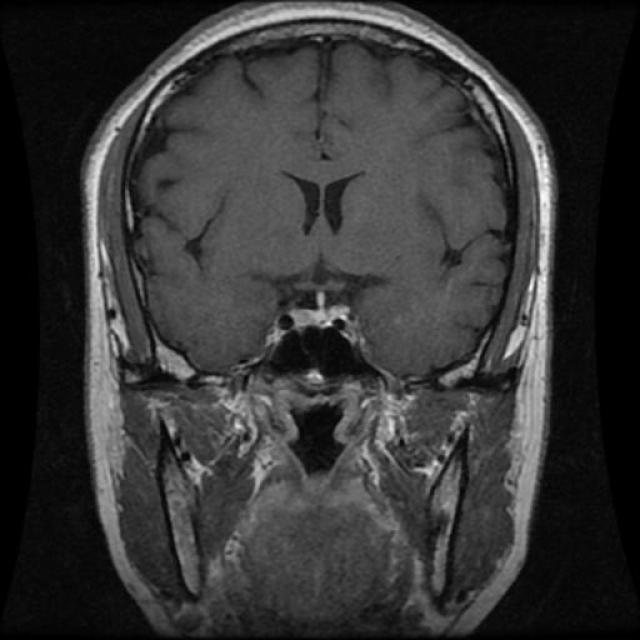pituitary: (252, 281, 384, 387)
